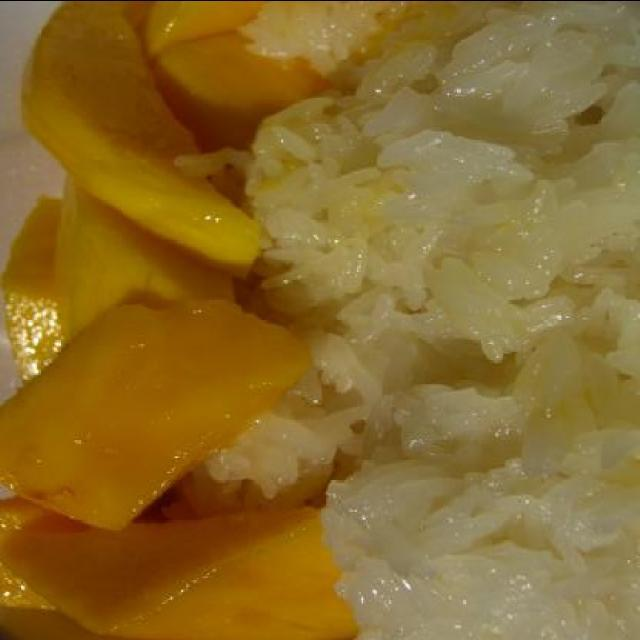Mango: (0, 0, 357, 640), (0, 508, 358, 640)
